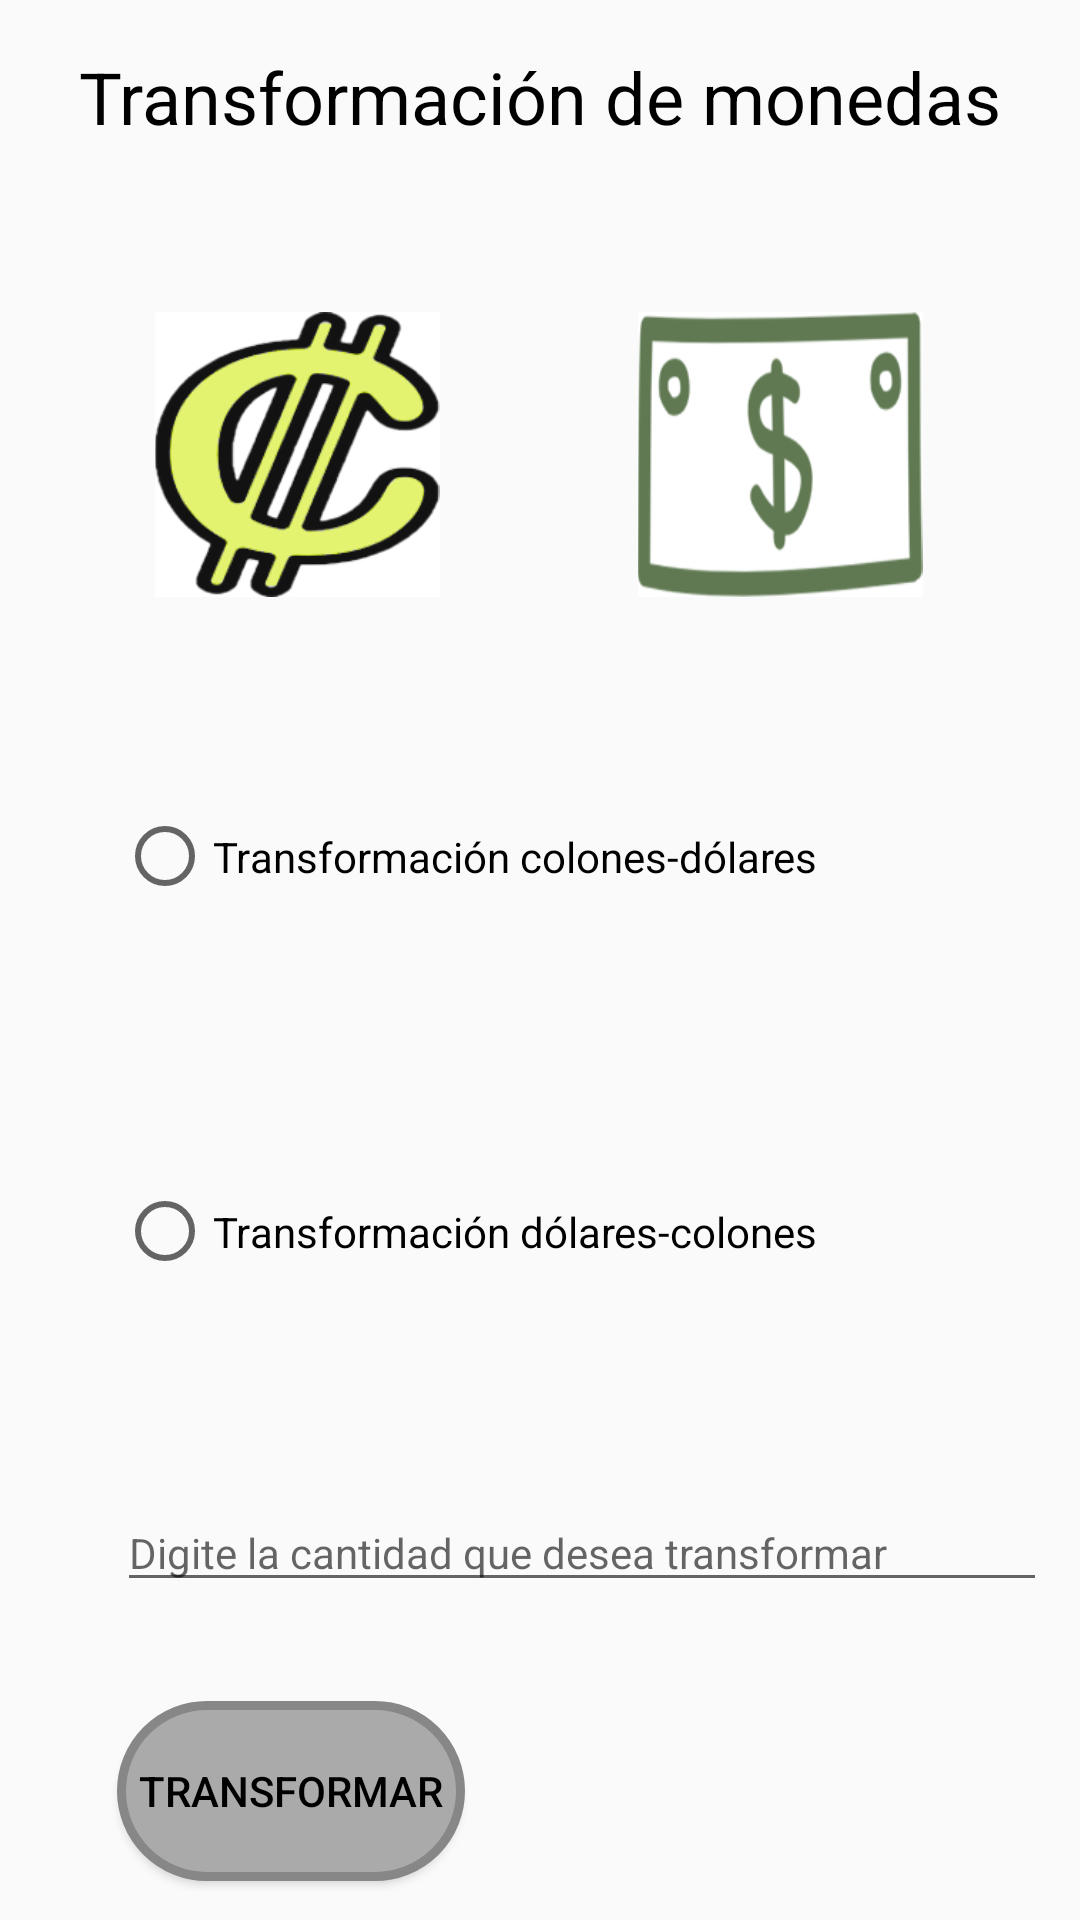

Where icons sit on this 1080px x 1920px app screen, as (x1, y1, x2, y2):
dolar: (638, 312, 923, 597)
